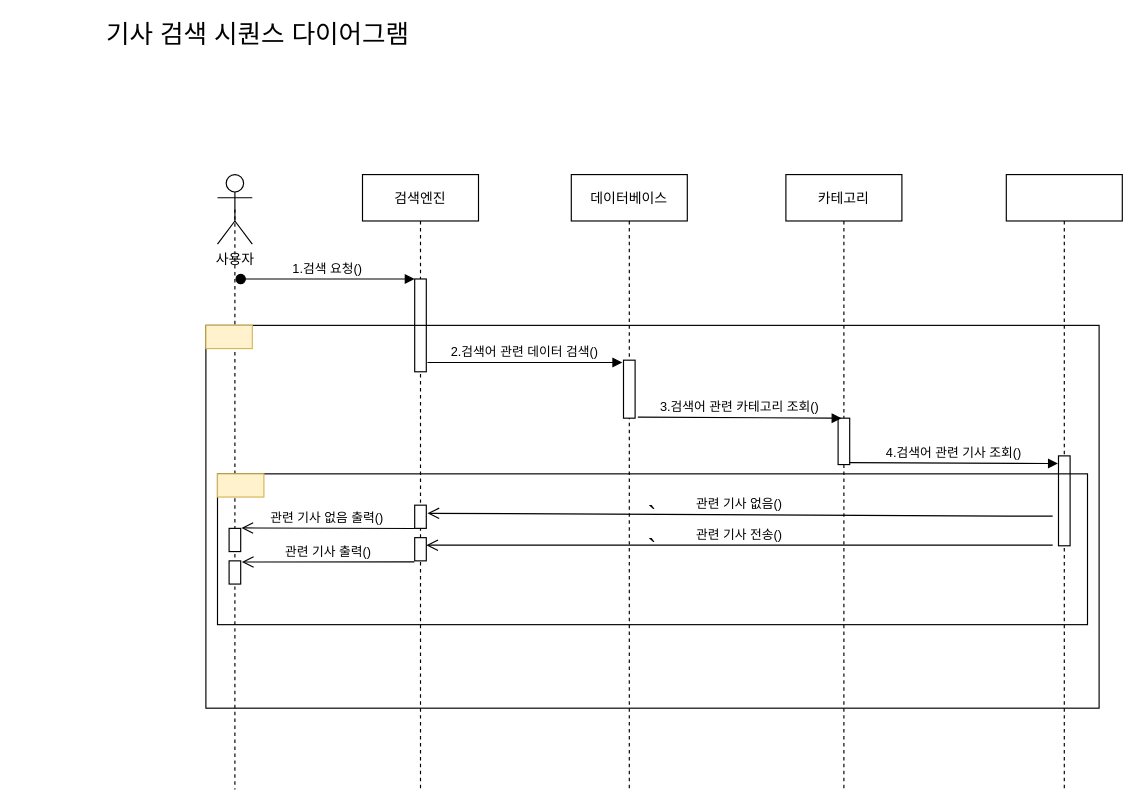
Some shapes in this 1143 by 811 pixel diagram are drawn without their labels. Each missing label, with the centre of its shape:
alt: the point at 240,485
loop: the point at 228,336
기사 본문: the point at 1063,481
